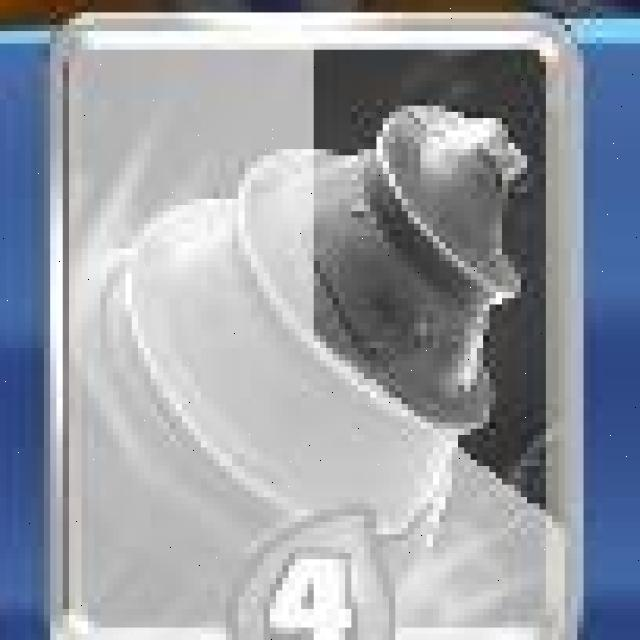Goblin_Drill: (53, 12, 581, 640)
